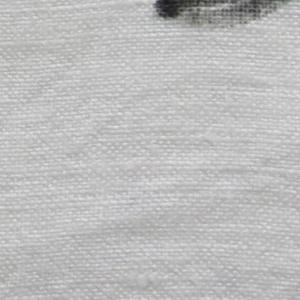Stain: (151, 1, 297, 37)
